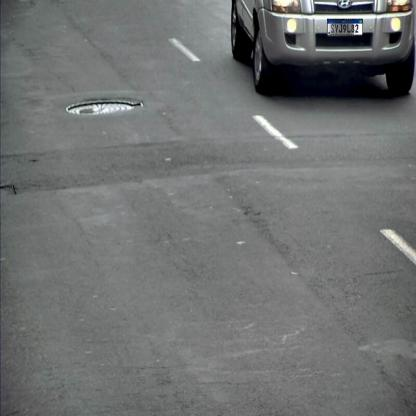PlacaM: (327, 19, 363, 35)
